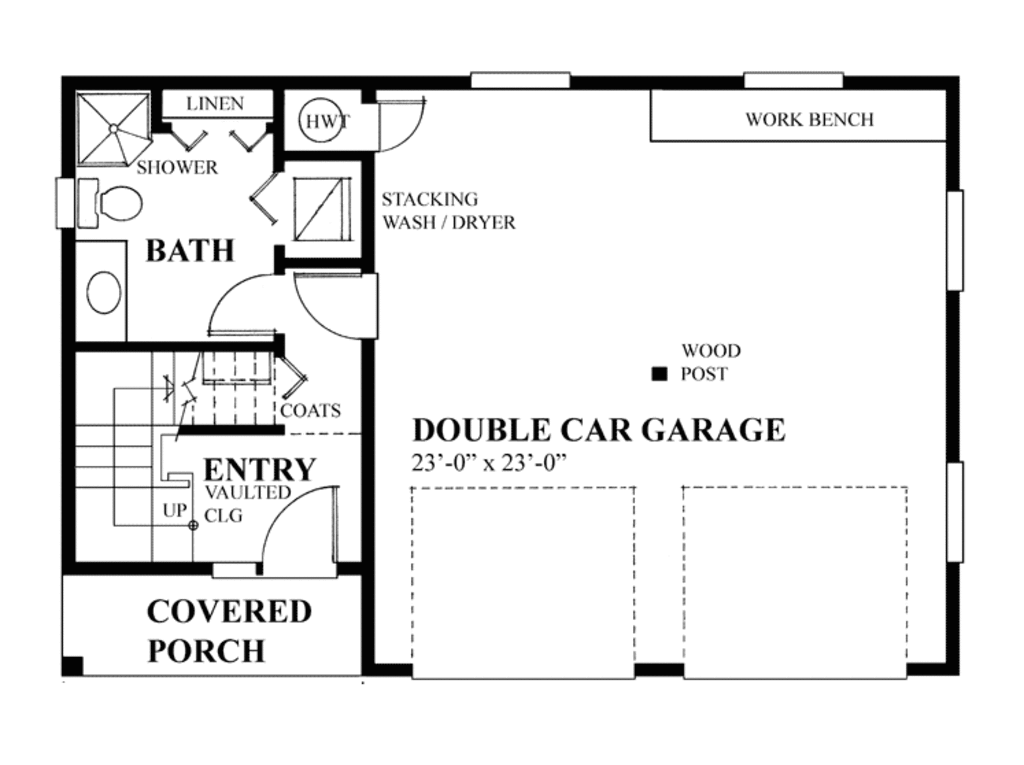door: (260, 473, 338, 583), (294, 261, 378, 337), (190, 267, 281, 335), (381, 97, 435, 159)
large_sink: (77, 177, 150, 232)
small_sink: (66, 238, 125, 340)
stairs: (74, 345, 282, 558)
window: (467, 72, 574, 92), (949, 187, 966, 291), (744, 73, 846, 87), (950, 460, 962, 564)
